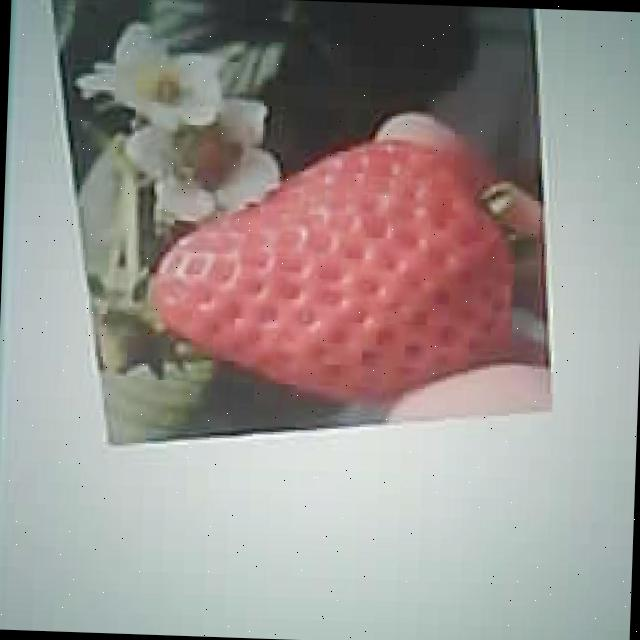strawberry: (149, 134, 517, 400)
